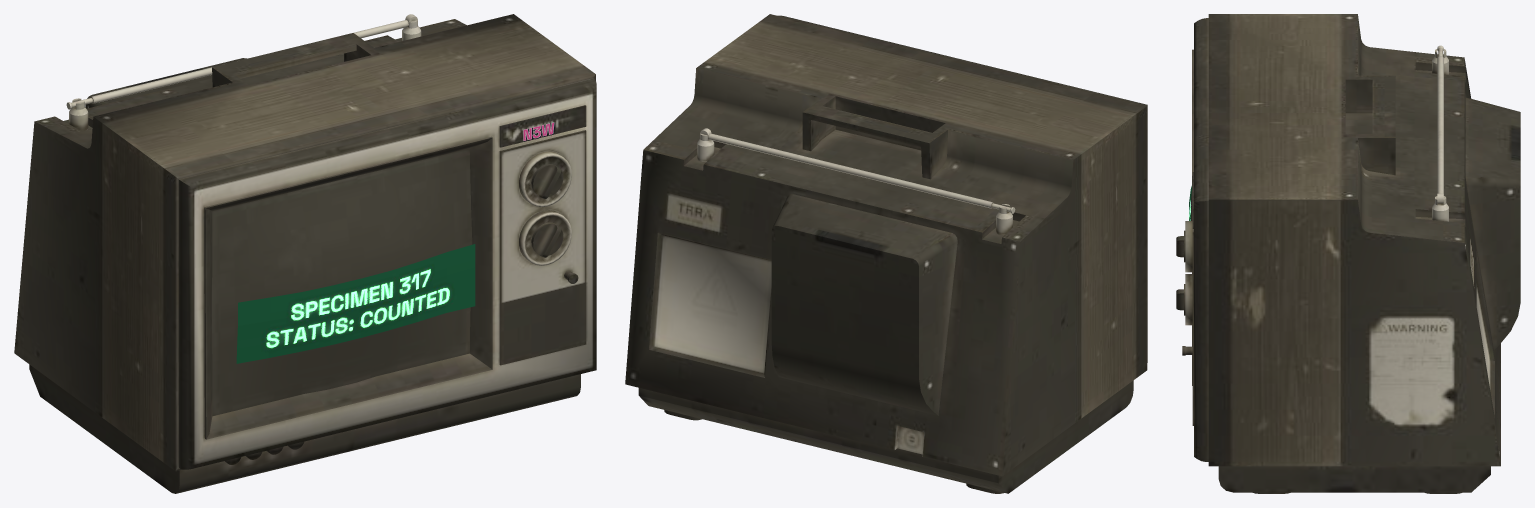
File: nyb_splash_monitor.glb
The picture shows the model from 3 angles, left to right: view 1: azimuth 30°, elevation 25°; view 2: azimuth 150°, elevation 25°; view 3: azimuth 270°, elevation 25°; orthographic projection. The views are drawn at different scales.
Visible parts, largest first — view 1: Television_01, stk_lbl_ac7e05ee2f.png; view 2: Television_01; view 3: Television_01.
Boxes of the visible parts, box(x1,y1,x2,y2) form: Television_01: box(14, 14, 596, 493); stk_lbl_ac7e05ee2f.png: box(236, 244, 475, 363); Television_01: box(625, 14, 1147, 493); Television_01: box(1176, 14, 1520, 493).
Size of the model in its own units: 0.6 by 0.4568 by 0.4708.
Materials: 3 (3 with a texture image).
